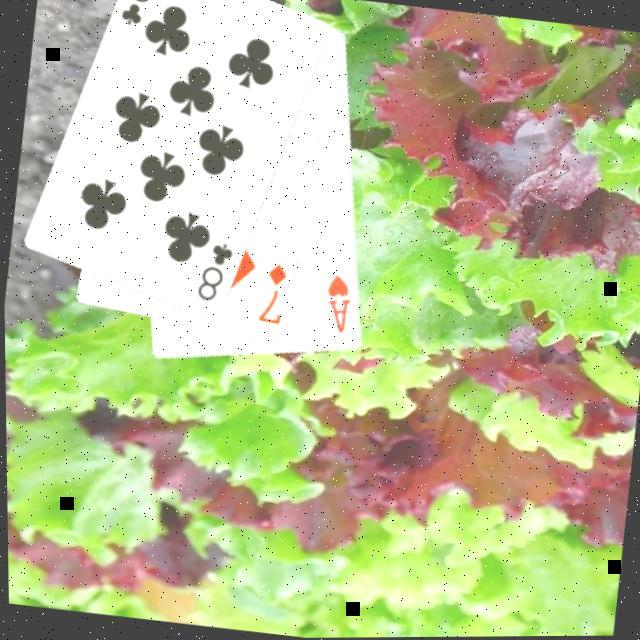7D: (253, 261, 292, 330)
8C: (192, 239, 239, 309), (116, 0, 162, 33)
AH: (319, 272, 358, 339)
